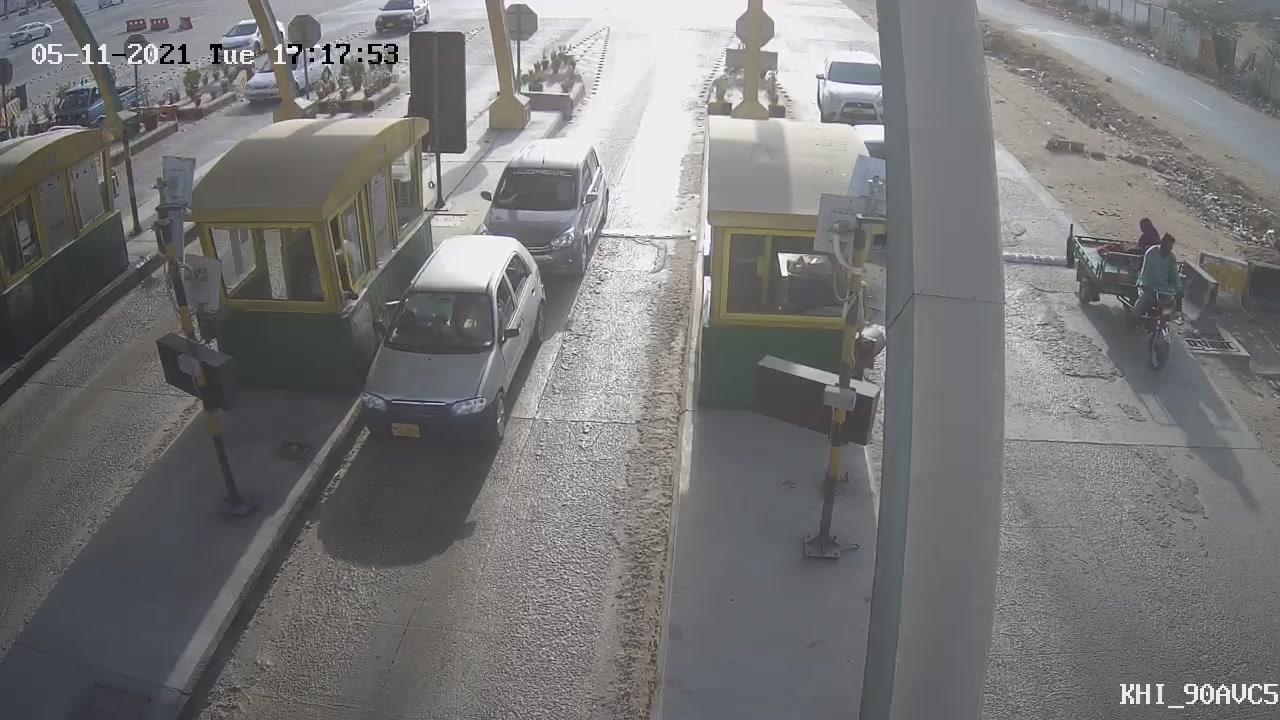F1: (337, 224, 564, 465), (460, 125, 625, 305)
